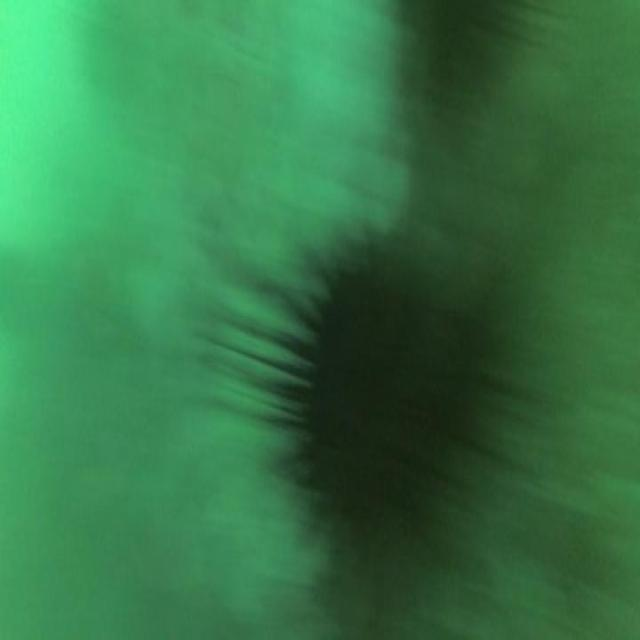echinus: (295, 250, 475, 536)
